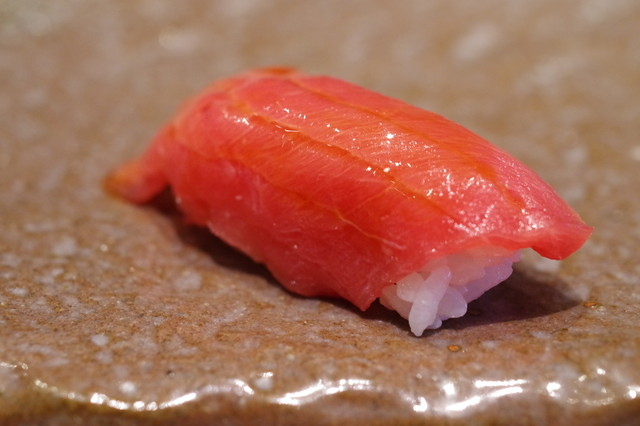medium_fatty_tuna: (150, 76, 525, 316)
